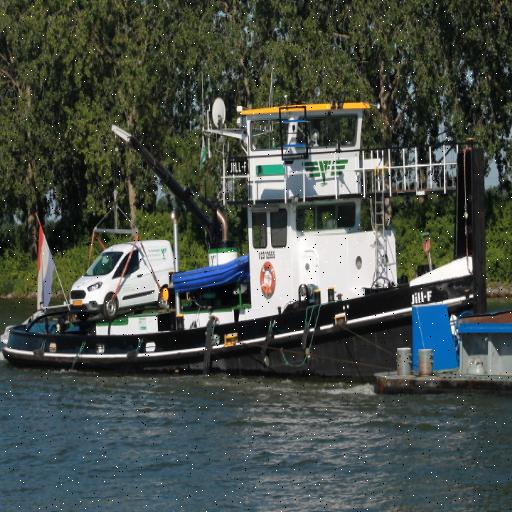tugboat: (1, 94, 485, 392)
